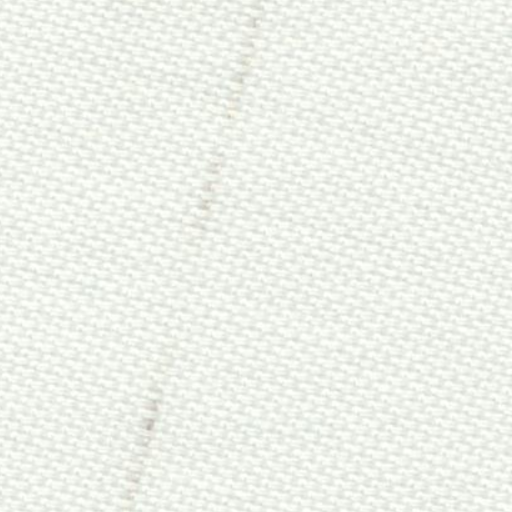WuZi: (106, 6, 264, 500)
